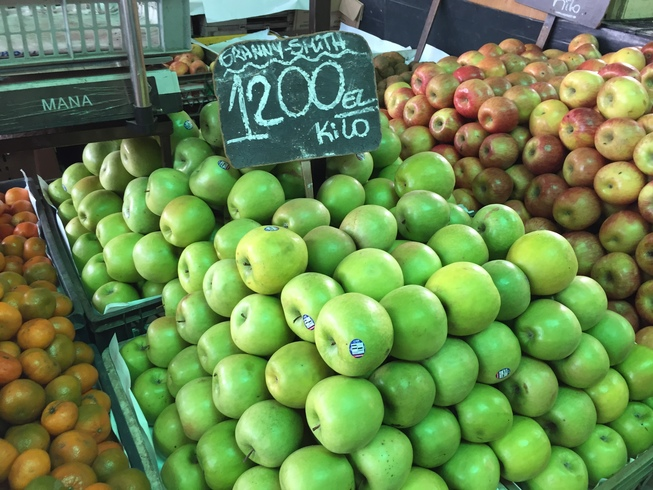precio: (217, 36, 381, 163)
